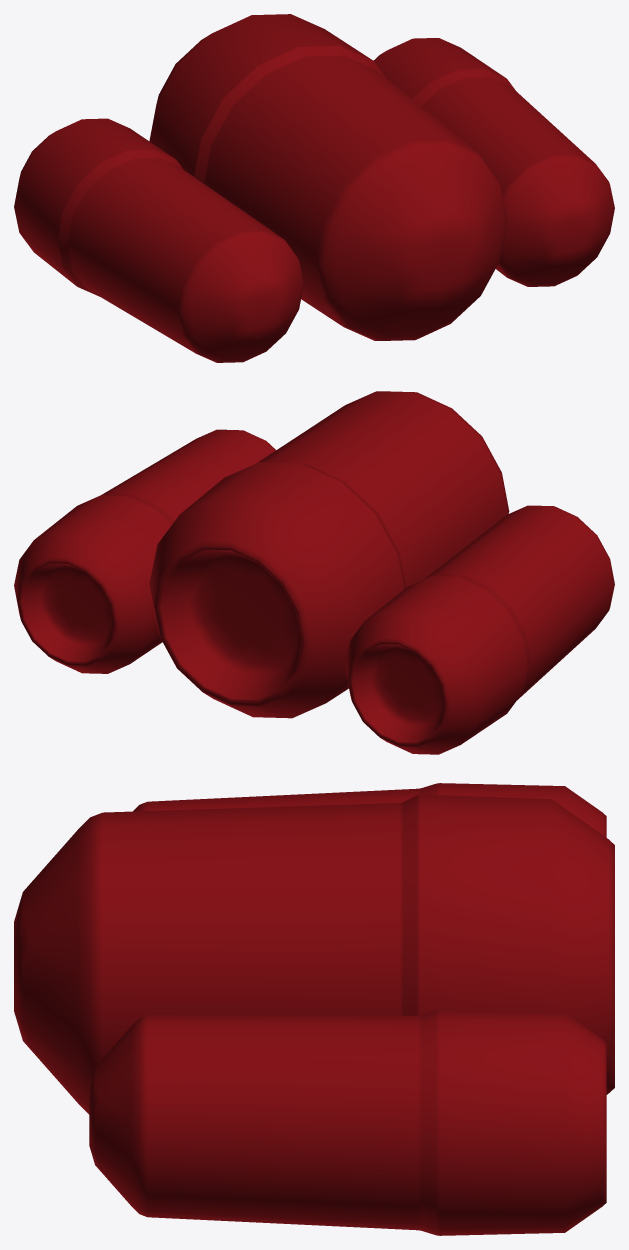
File: Ship_enemy_10_Engine.fbx
The picture shows the model from 3 angles, top to bottom: view 1: azimuth 30°, elevation 25°; view 2: azimuth 150°, elevation 25°; view 3: azimuth 270°, elevation 25°; orthographic projection. The views are drawn at different scales.
Parts seen in each view (by area): view 1: Ship_enemy_10_Engine; view 2: Ship_enemy_10_Engine; view 3: Ship_enemy_10_Engine.
Part boxes in pixels (left/top/right/bottom): Ship_enemy_10_Engine: left=14, top=14, right=614, bottom=362; Ship_enemy_10_Engine: left=14, top=391, right=614, bottom=754; Ship_enemy_10_Engine: left=14, top=783, right=614, bottom=1235.
Size of the model in its own units: 185 by 83.55 by 145.
